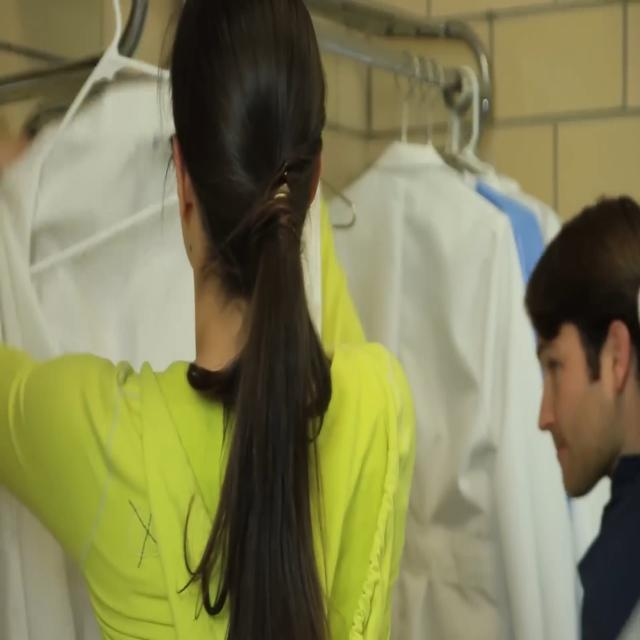labcoat: (0, 51, 327, 639), (324, 123, 585, 640)
